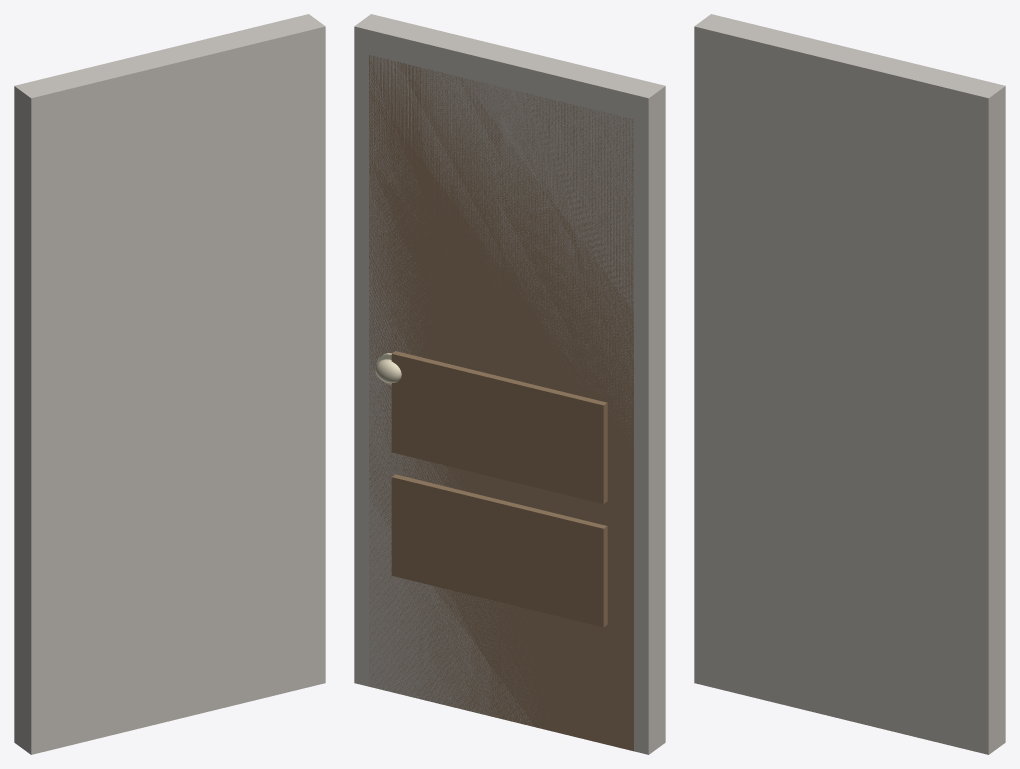
Rendered from HospitalDoor.fbx.
The picture shows the model from 3 angles, left to right: view 1: azimuth 30°, elevation 25°; view 2: azimuth 150°, elevation 25°; view 3: azimuth 330°, elevation 25°; orthographic projection.
Parts seen in each view (by area): view 1: Cube.004; view 2: Door_Slab, Cube.004, Cube, Cube.001; view 3: Cube.004.
Boxes of the visible parts, x1,y1,x2,y2 form: Cube.004: (14,14,325,754); Door_Slab: (369,55,633,751); Cube.004: (354,14,665,754); Cube: (391,474,607,627); Cube.001: (391,351,607,503); Cube.004: (694,14,1005,754).
Size of the model in its own units: 100 by 213 by 14.7.
